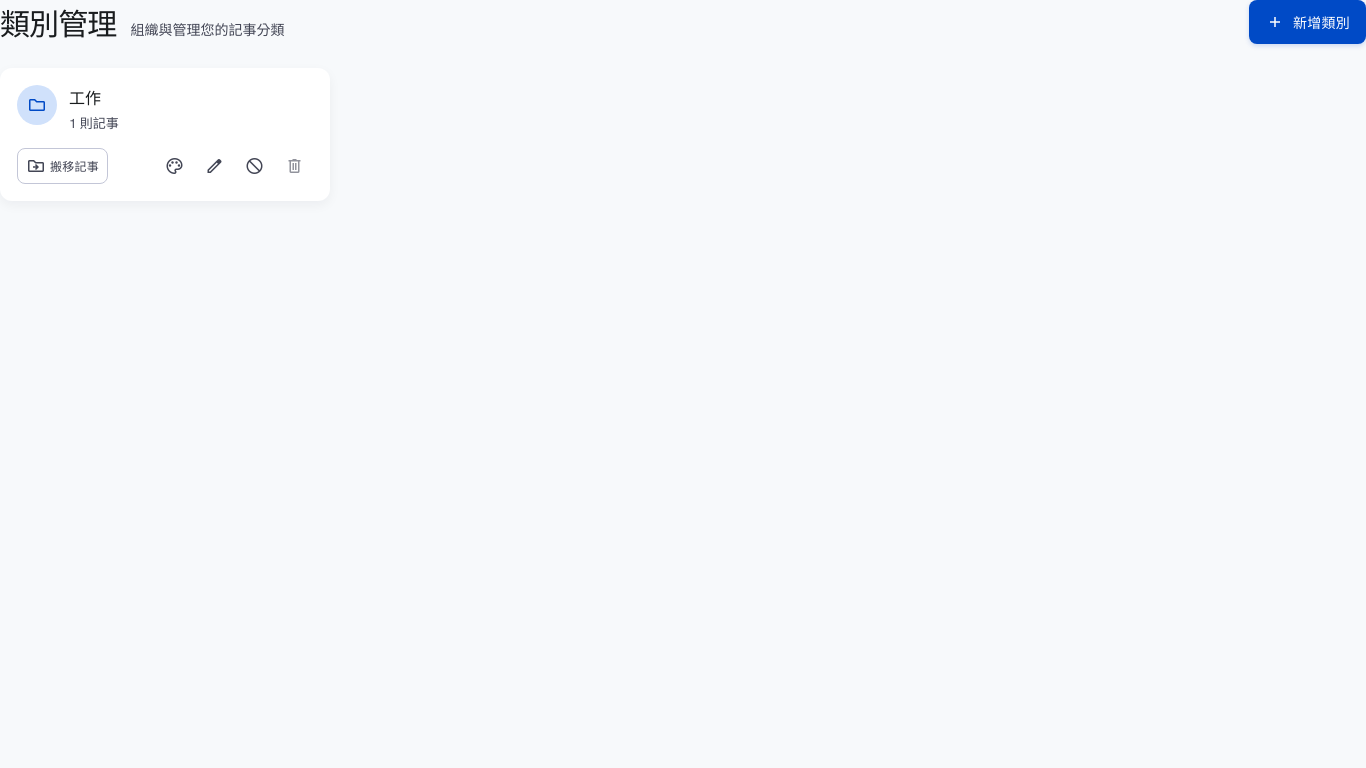
Test: 有記事的類別可開啟搬移面板但不可永久刪除
Check: the button named "永久刪除 工作" is disabled, box [276,148,312,184]
Step 1. Click the button named "搬移 工作 的記事" → (62, 166), box [17,148,108,184]
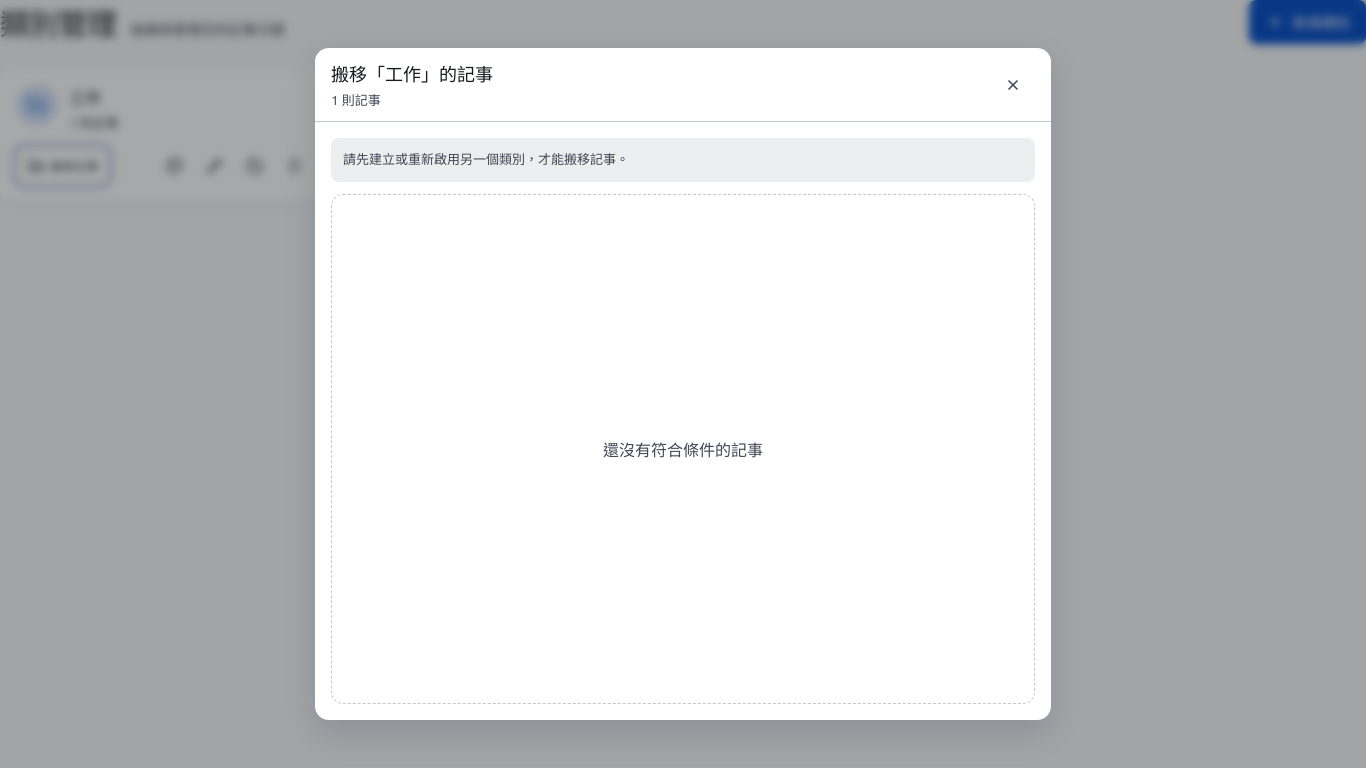
Check: the dialog "搬移「工作」的記事" is shown, box [315,48,1051,720]
